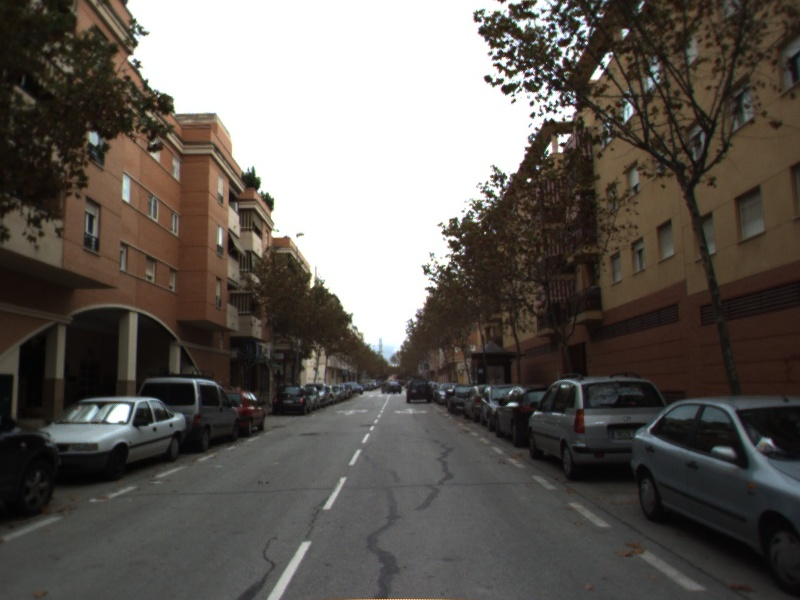STRAIGHT_LEFT_RIGHT: (392, 406, 431, 417)
